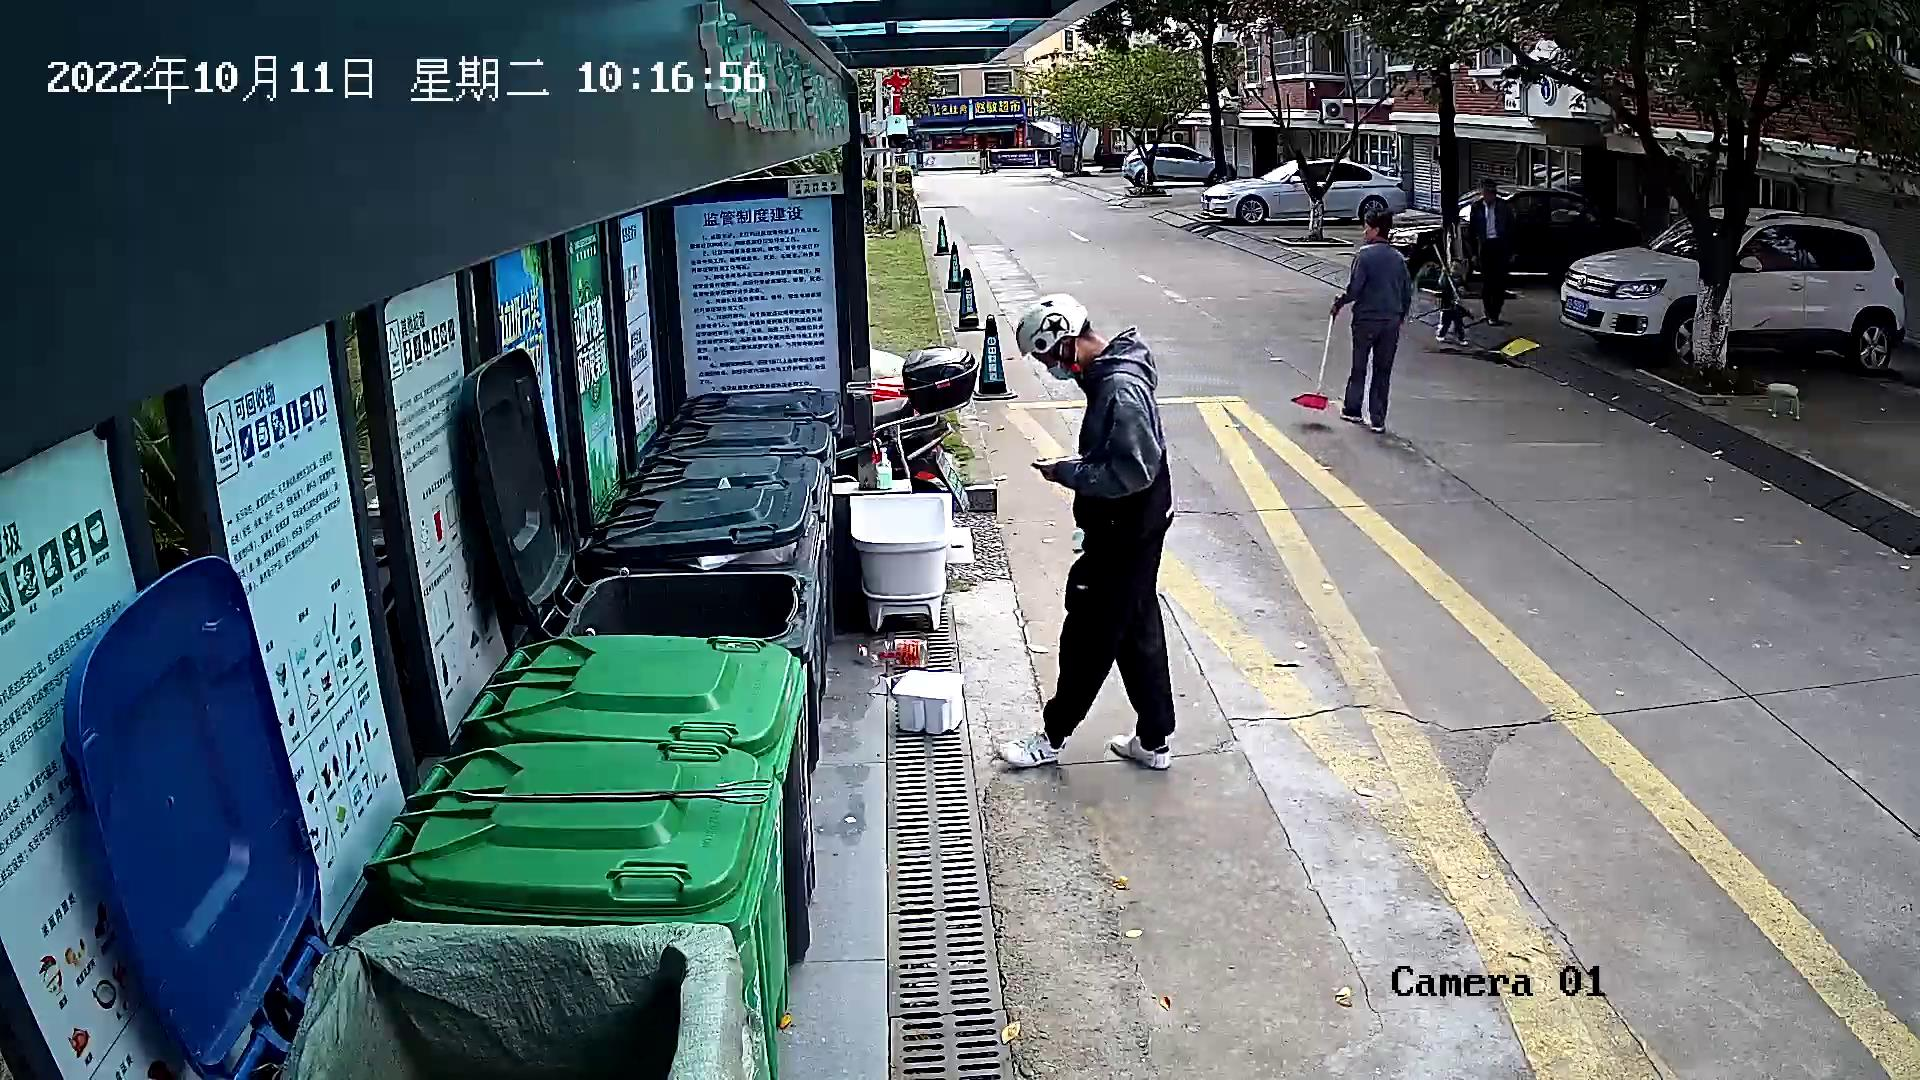paomozhipin: (887, 662, 972, 743)
person: (985, 290, 1191, 778), (1323, 205, 1418, 441)
suliaozhipin: (850, 631, 933, 673)
